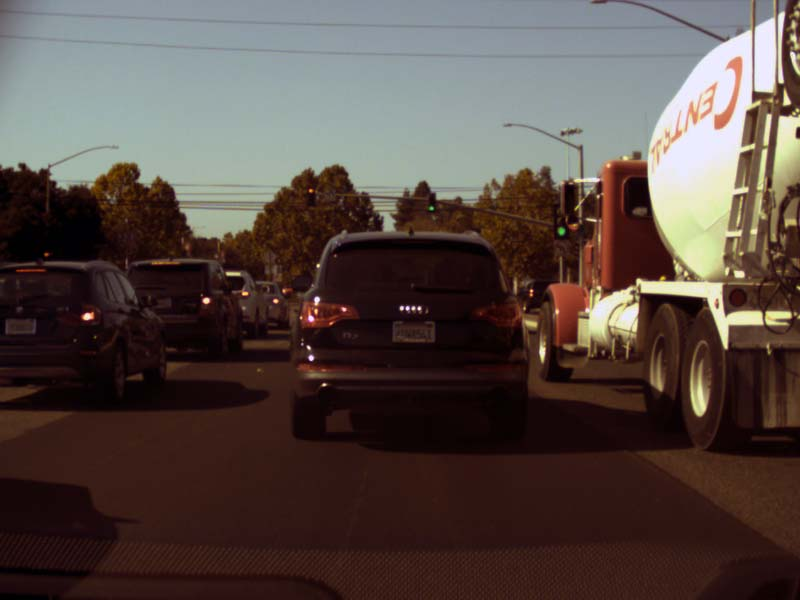Green: (553, 204, 568, 239), (428, 194, 435, 213)
Red: (307, 186, 315, 207), (43, 246, 51, 260)
